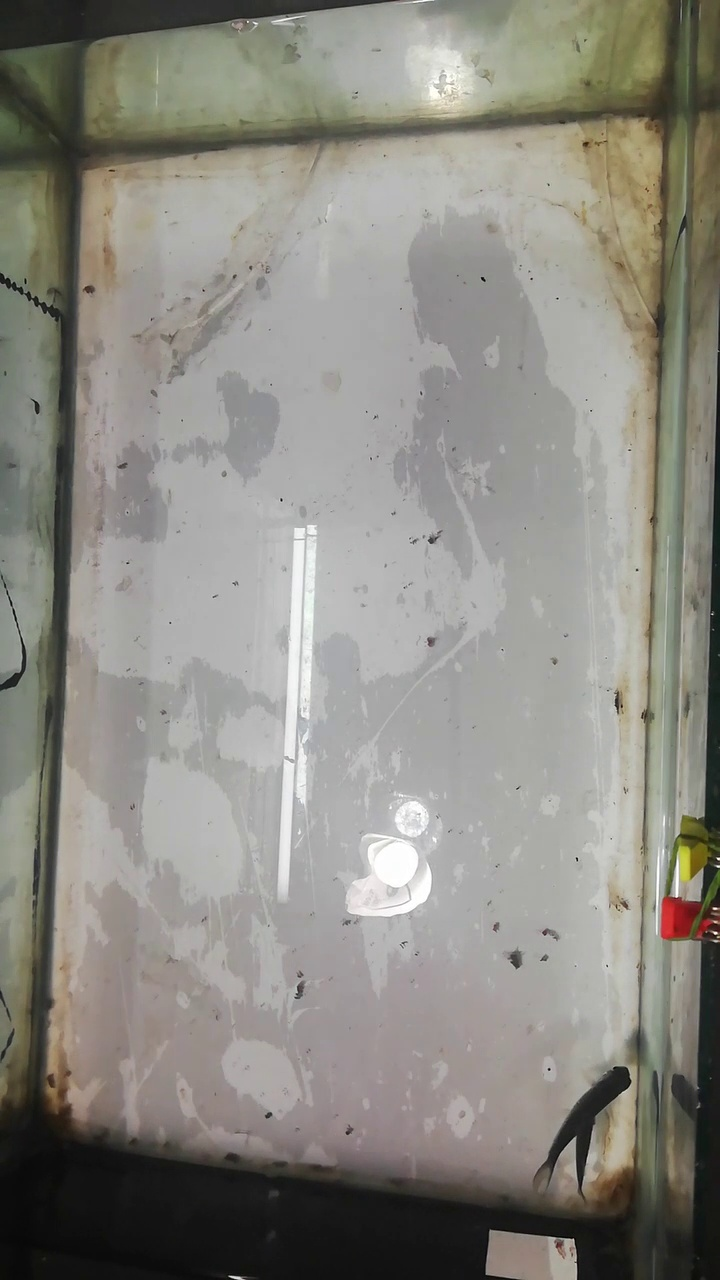fish1: (537, 1064, 633, 1192)
fish2: (572, 1116, 593, 1192)
